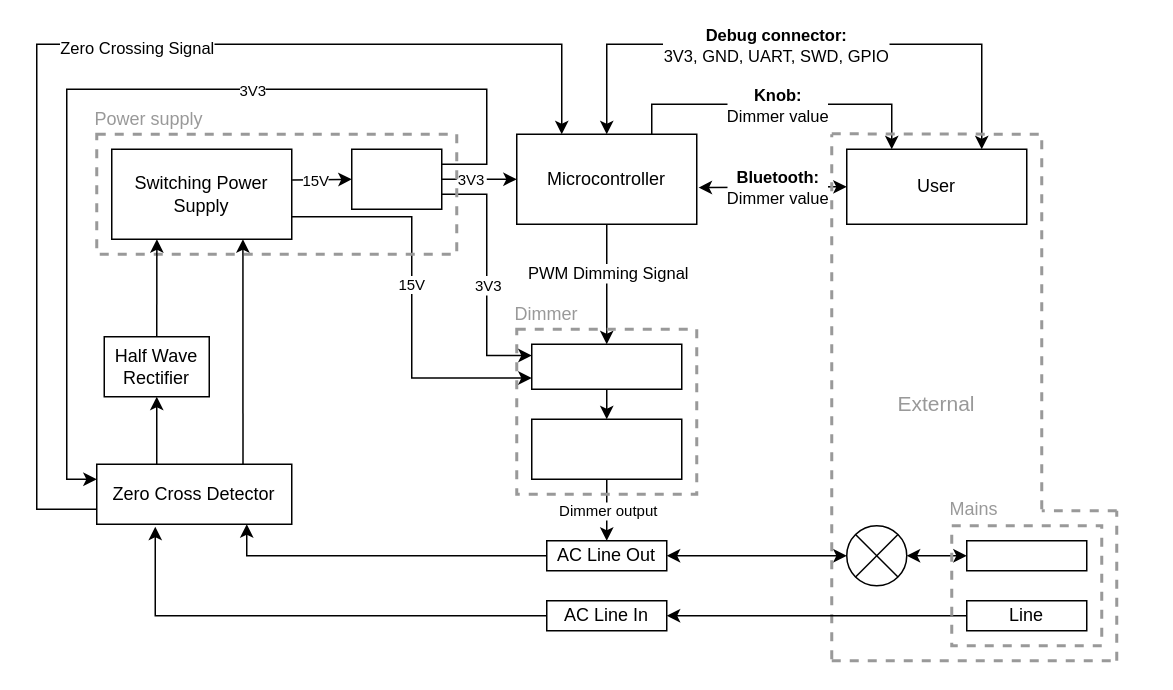
Some shapes in this 1173 by 690 pixel diagram are drawn without their labels. The centre of each missing label's shape, as x and y in pixels:
"3V3 Buck Converter" goes at point 396,178.
"Gate Driver" goes at point 606,366.
"Neutral" goes at point 1026,555.
"Semiconductors" goes at point 606,448.
